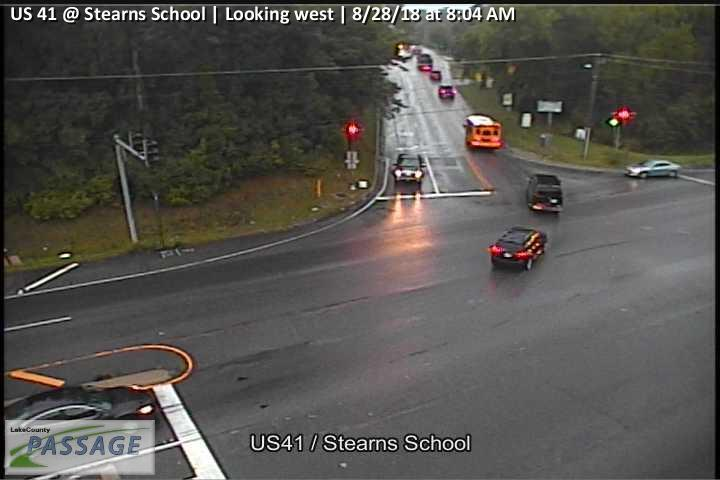SUV: (525, 173, 565, 215), (437, 82, 456, 101)
Sedan: (4, 382, 163, 437), (486, 226, 548, 272), (622, 157, 683, 181), (394, 152, 426, 181), (429, 69, 442, 80)
Truck: (463, 113, 505, 152)
